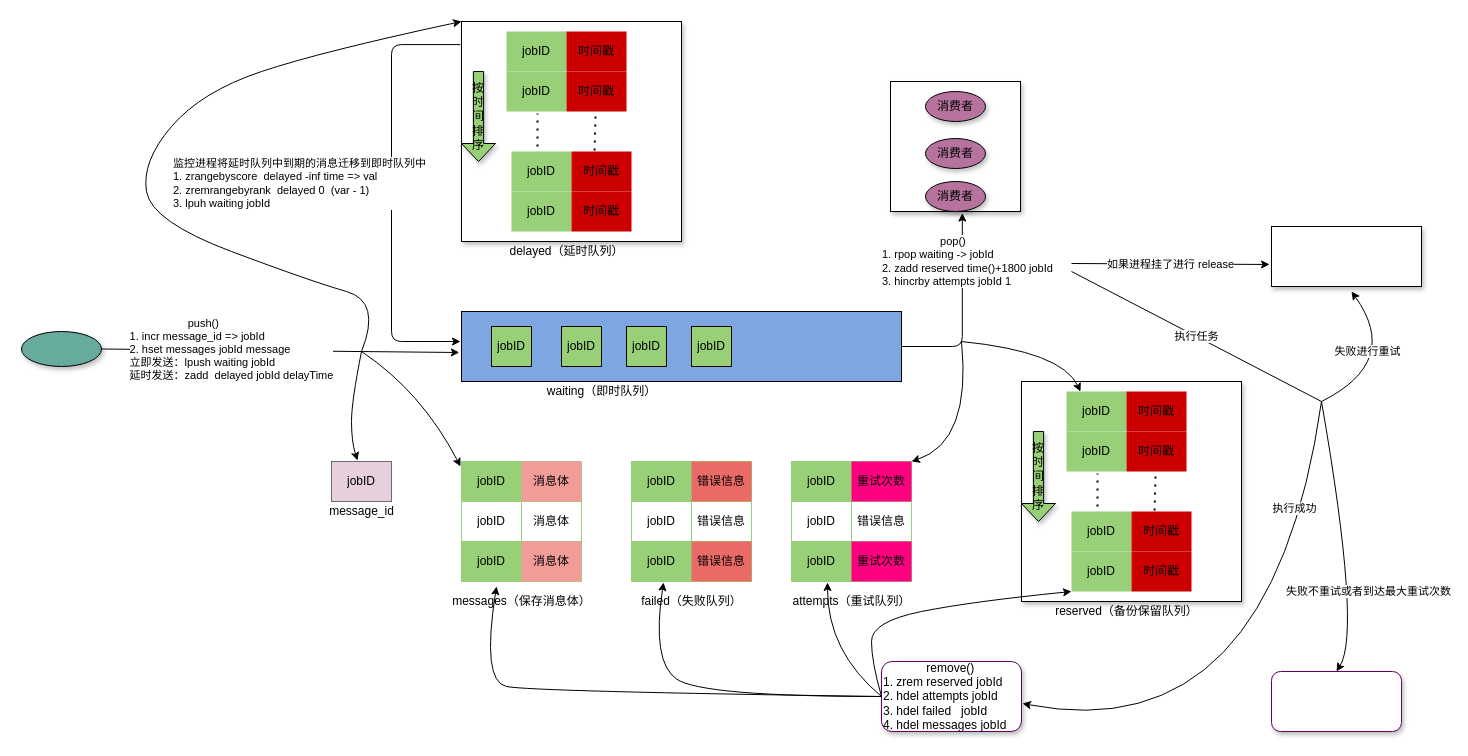
Image size: 1468x756. Some labels were removed from this diagram. Each missing label, with the centre of its shape:
failed() 1. hset failed jobId 2. zrem reserved jobId: (1337,702)
release() 1. zrem reserved jobId 2. zadd delayed time jobId: (1347,258)
生产者: (62,350)
